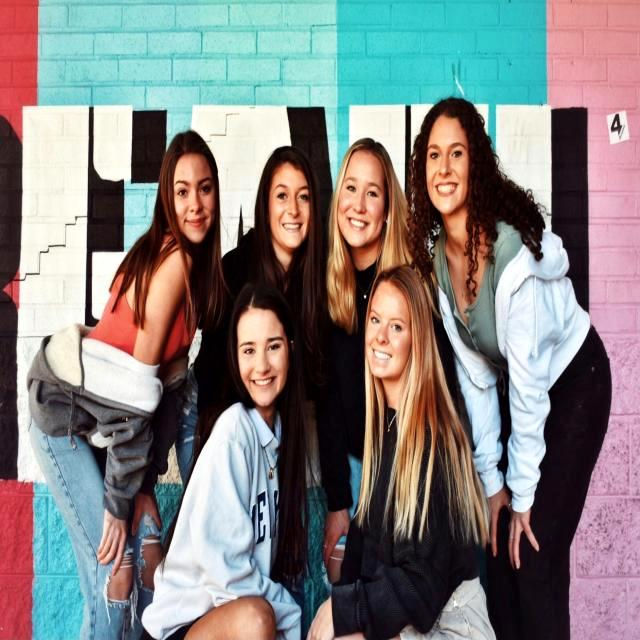no_head_wear: (230, 282, 294, 337), (369, 265, 430, 319), (420, 97, 488, 145), (161, 129, 218, 177), (260, 146, 316, 190), (338, 137, 393, 177)
person: (408, 97, 611, 640), (332, 266, 495, 640), (27, 130, 223, 423), (184, 284, 306, 639), (222, 147, 325, 307), (327, 138, 409, 294)
